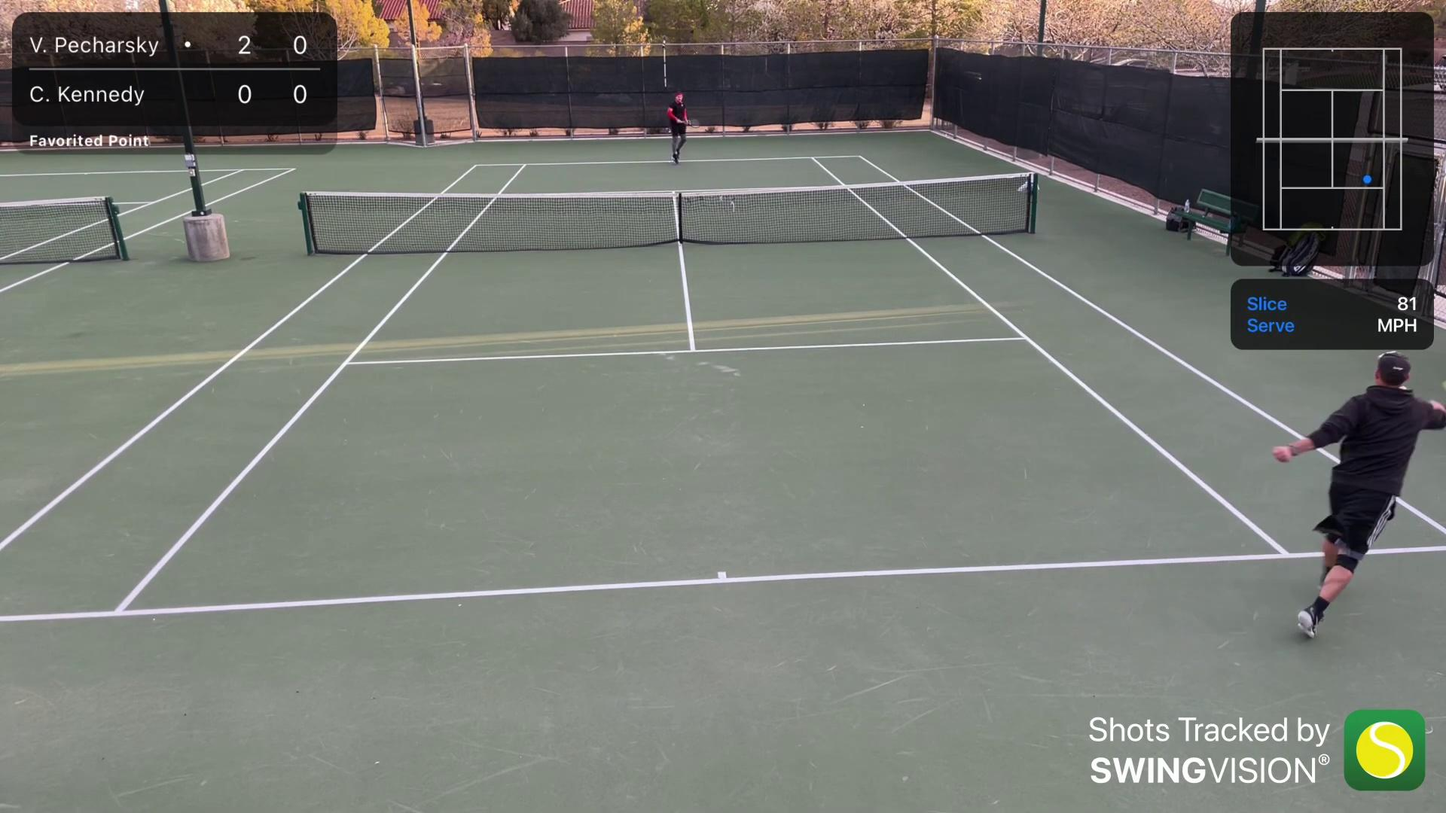ball: (1174, 69, 1179, 76)
